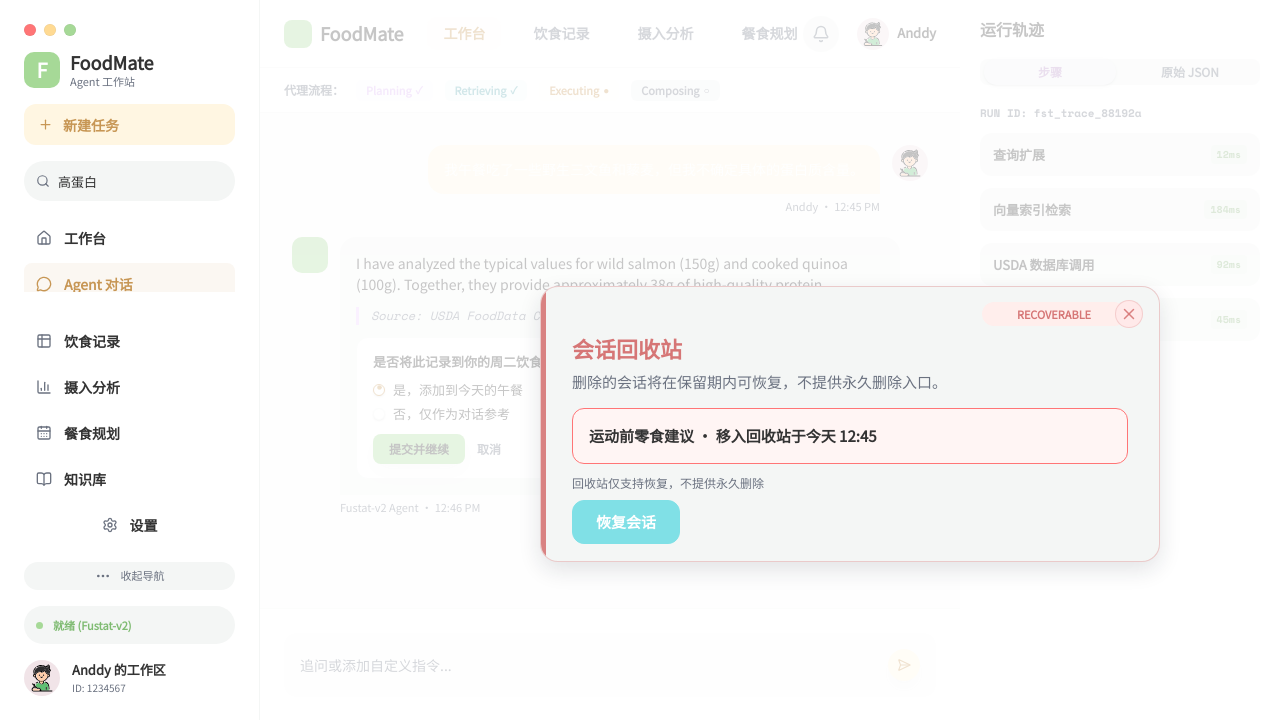
Test: ChatPage Figma session operation fixtures › renders trash as a modal result over the Figma conversation
Expected: the dialog "会话回收站" is shown, [540, 286, 1160, 562]
Expected: the button "恢复会话" is shown, [572, 500, 680, 544]
Step 1. Click the button named "关闭回收站结果" → [1129, 314], box [1115, 300, 1143, 328]
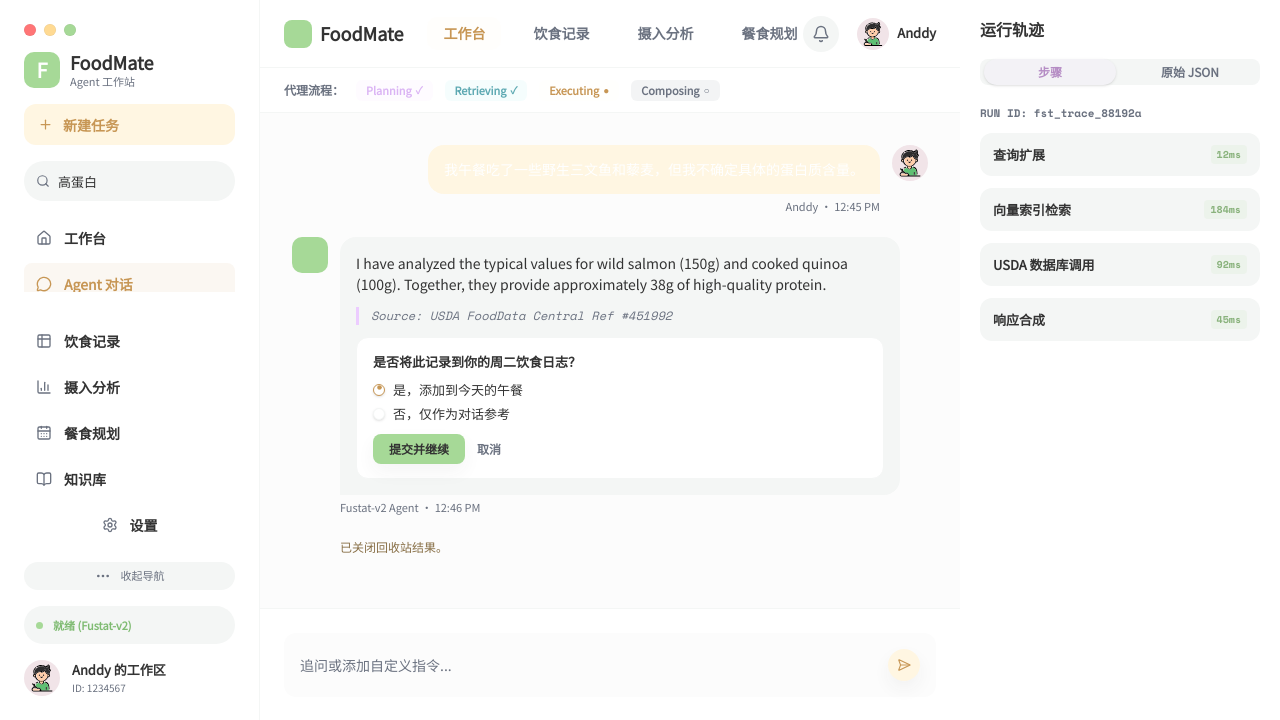
Result: the heading "会话回收站" is gone
Result: the message reads "已关闭回收站结果。" at [340, 538, 448, 555]
